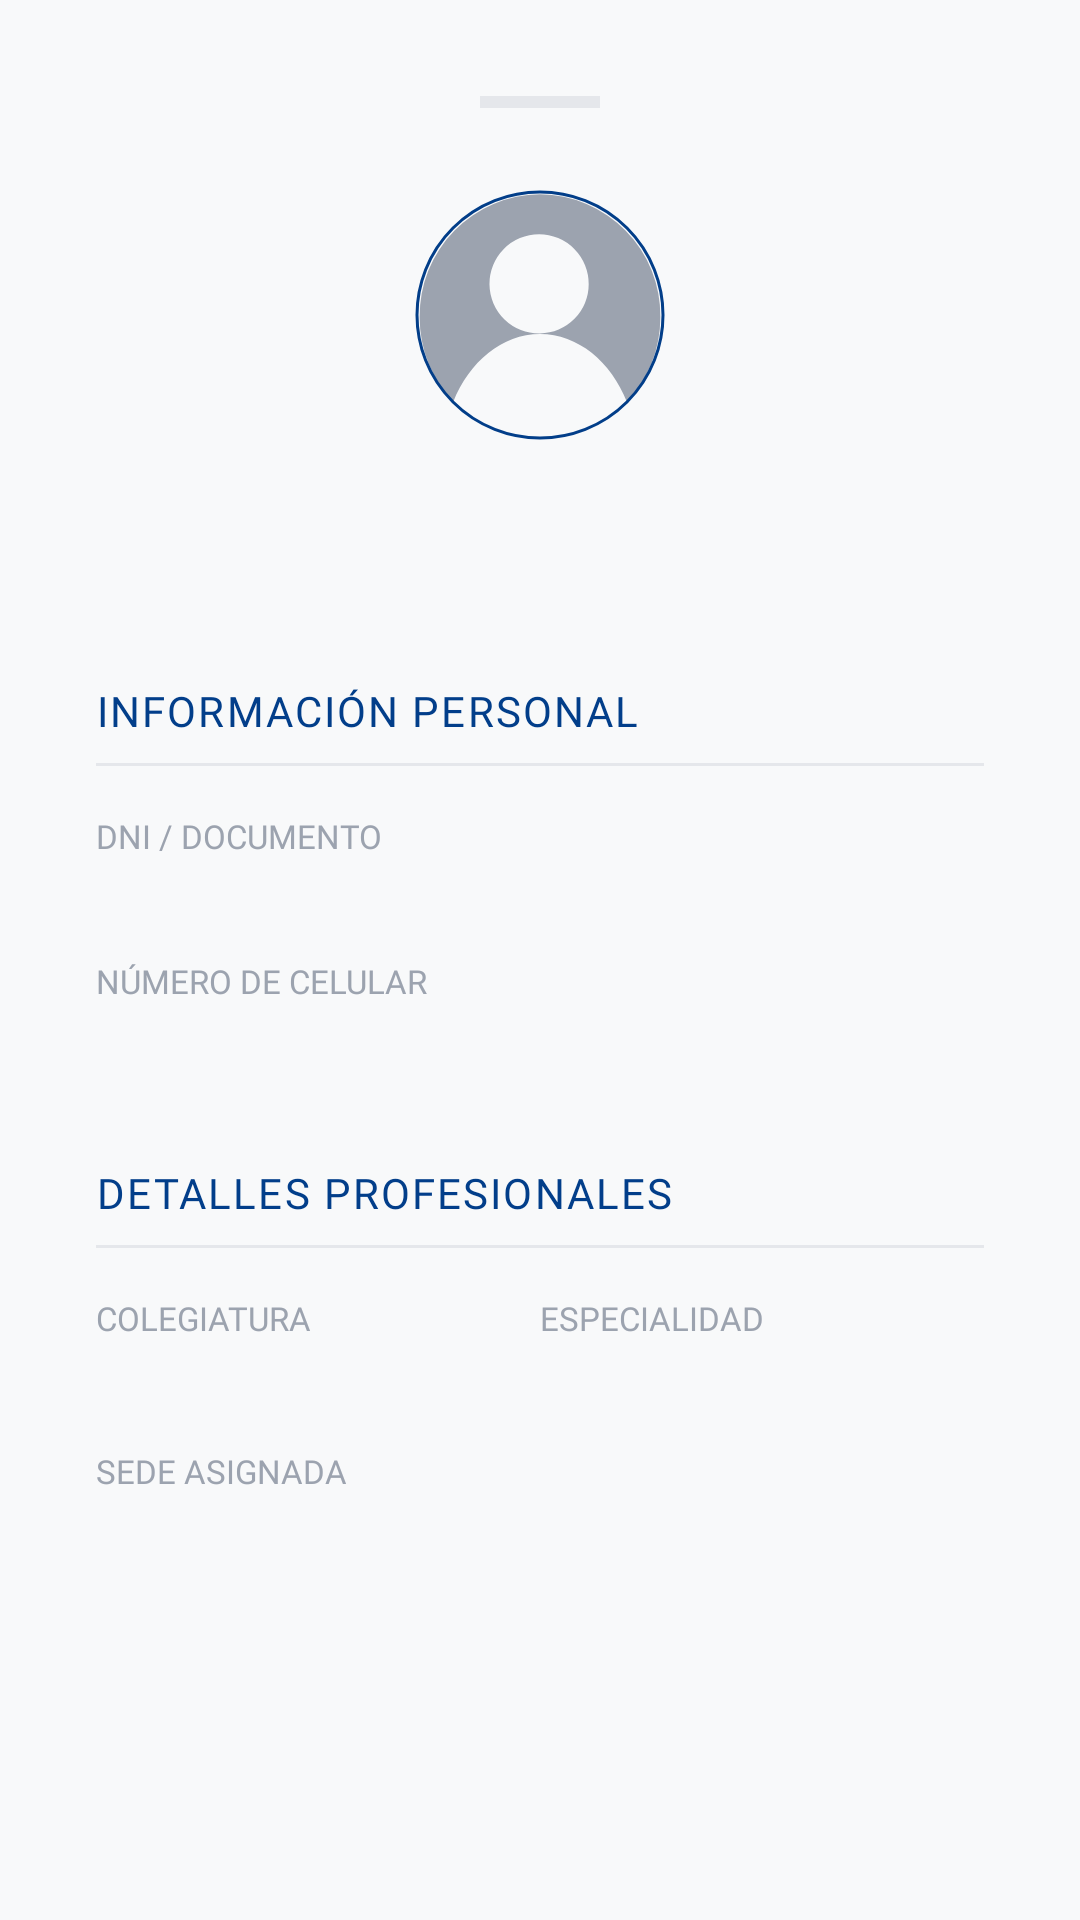

Named icons in this screenshot (1080 × 1920) and their bounding boxes, [left=x1, top=y1, right=x2, bottom=y2]:
perfil usuario: [left=415, top=190, right=665, bottom=440]
